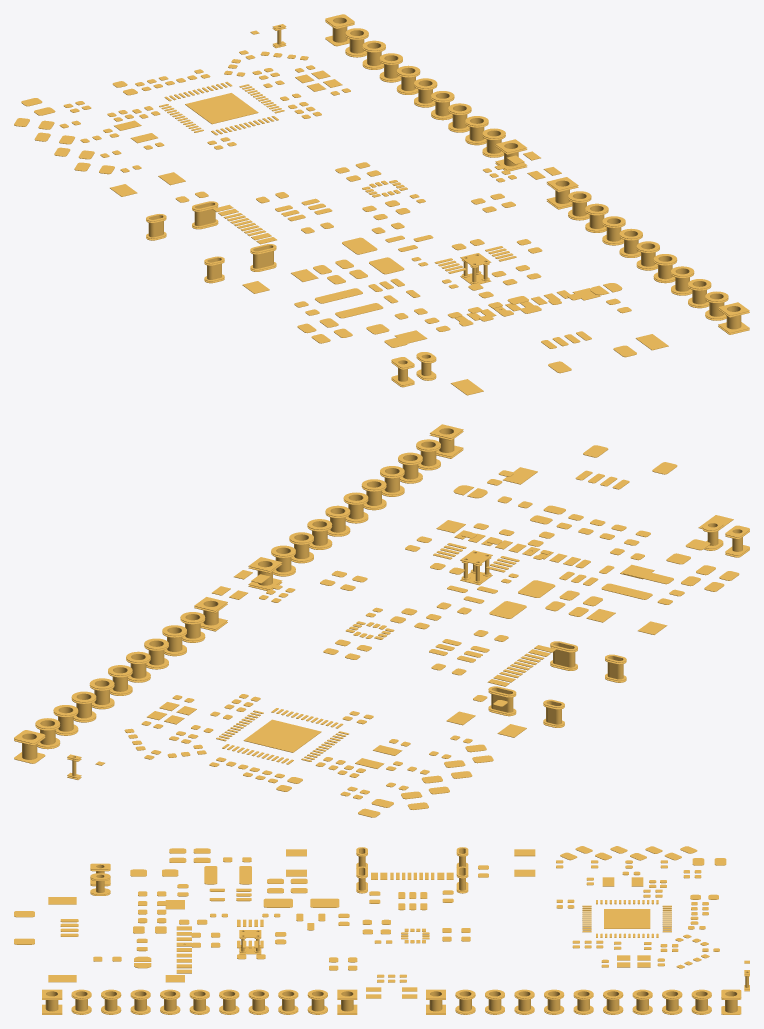
The model's file is board_pad.obj.
3 views of the same model, one above another, from view 1: azimuth 30°, elevation 25°; view 2: azimuth 150°, elevation 25°; view 3: azimuth 270°, elevation 25° (orthographic). The views are drawn at different scales.
Visible parts, largest first — view 1: =>[0:1:1:26]; view 2: =>[0:1:1:26]; view 3: =>[0:1:1:26].
Part boxes in pixels (x1,y1,x2,y2): =>[0:1:1:26]: (14,14,749,395); =>[0:1:1:26]: (14,424,749,817); =>[0:1:1:26]: (14,846,749,1014).
Bounding box in the file's own units: 0.3097 × 0.0159 × 0.633.
